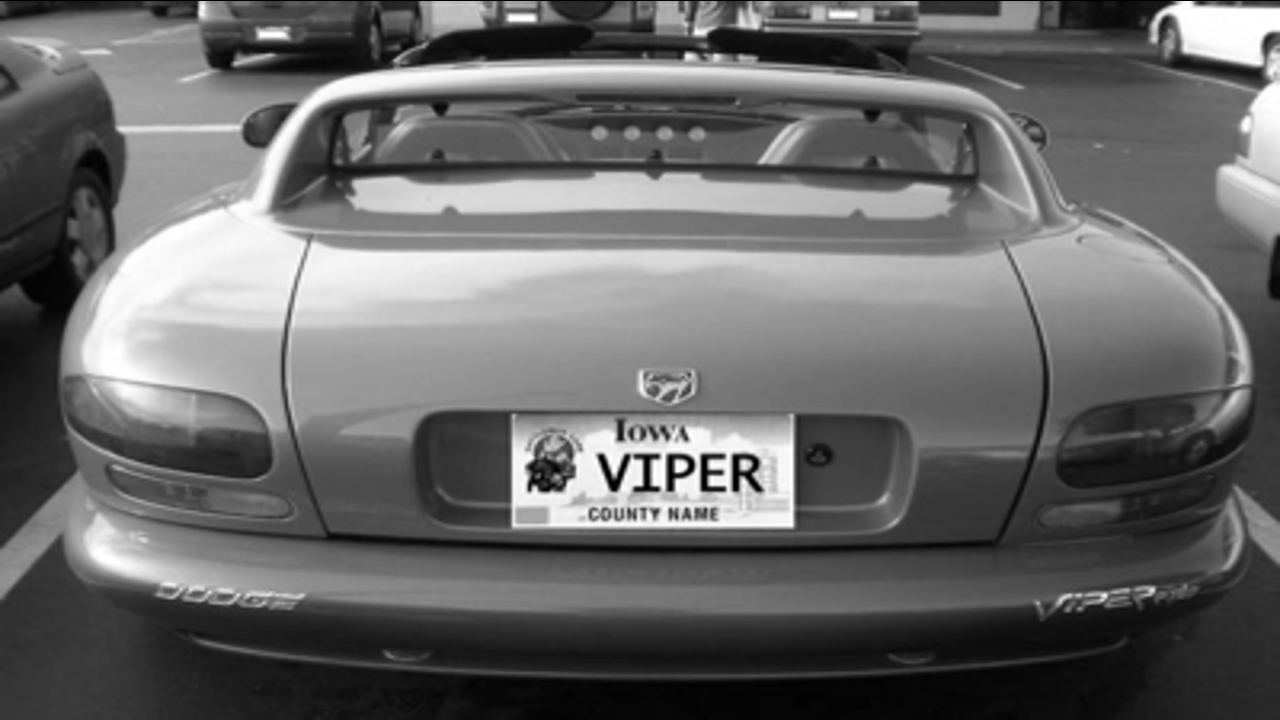license: (501, 410, 805, 538)
